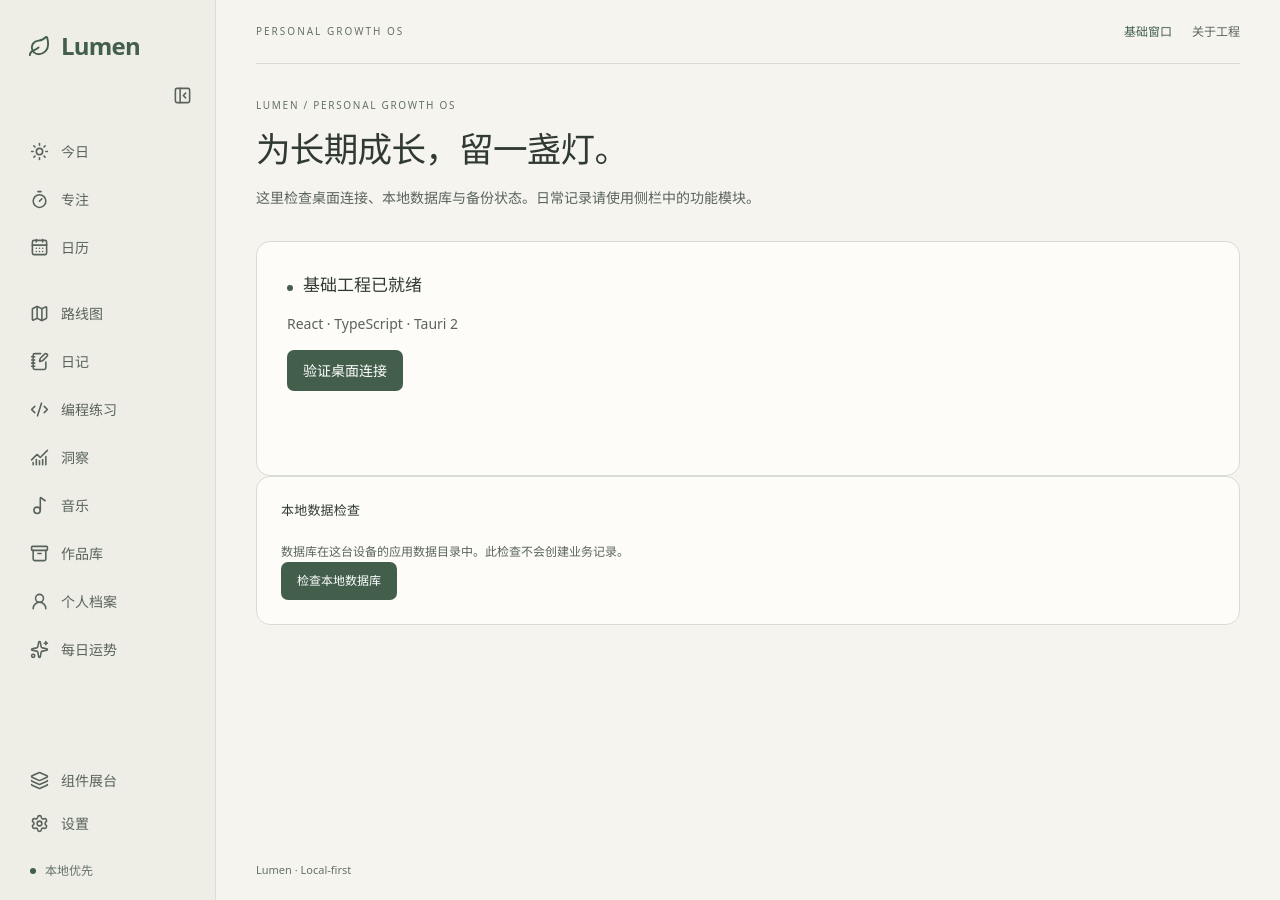
Test: bootstrap boundary › does not claim native connection in a browser
The image size is (1280, 900).
What coordinates should you click on to do the following:
click the button "验证桌面连接"
I would click on:
 (345, 371)
Its box is [287,350,403,391].
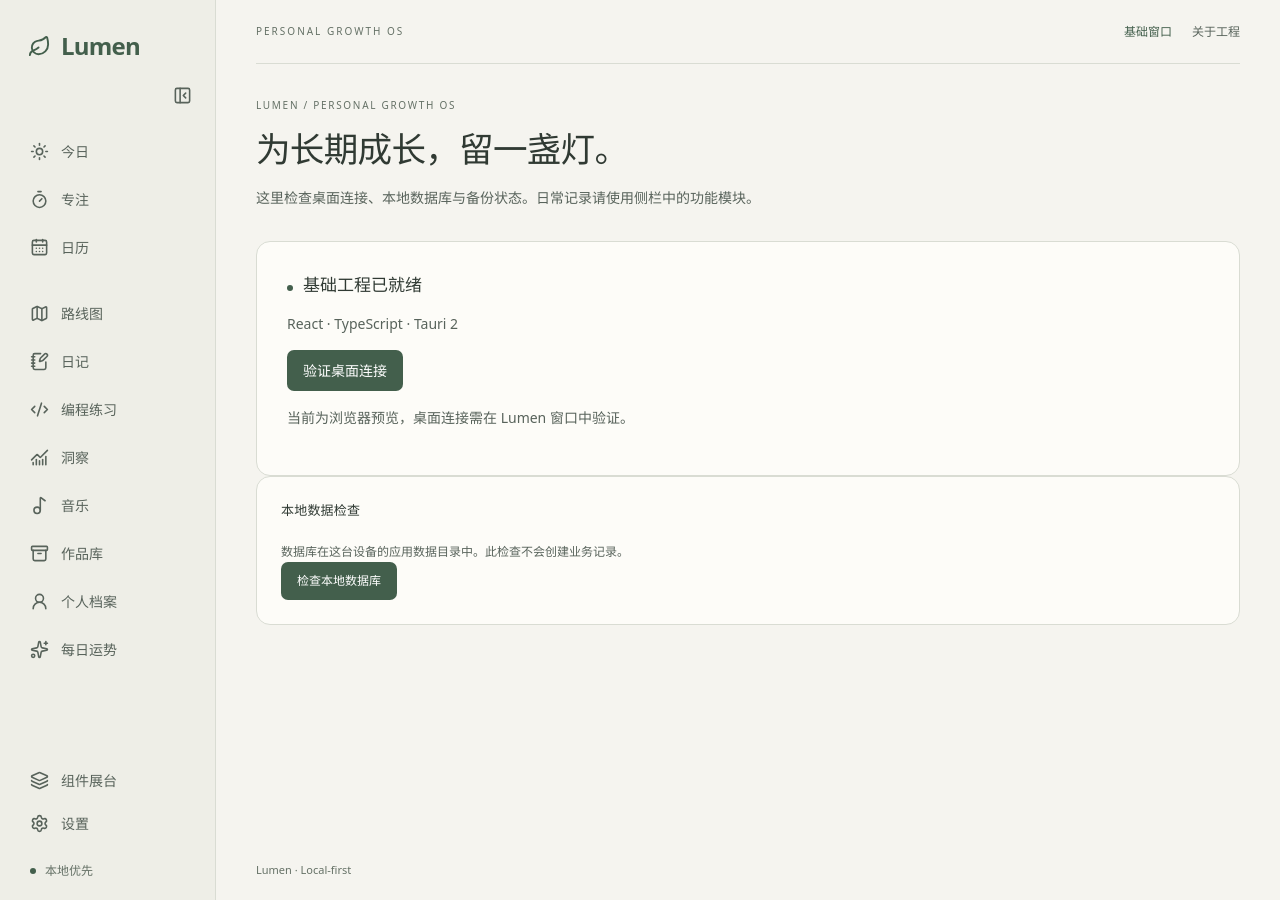
Result: the text "当前为浏览器预览，桌面连接需在 Lumen 窗口中验证。" is shown at [287,408,634,427]
